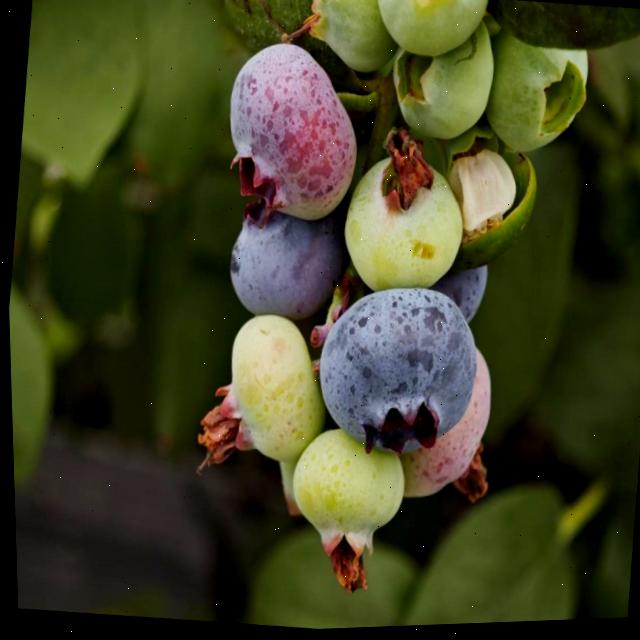RipeBlueBerry: (304, 275, 484, 462)
Semi-RipeBlueBerry: (213, 33, 370, 233)
UnripeBlueBerry: (334, 140, 472, 300), (278, 424, 411, 576)
